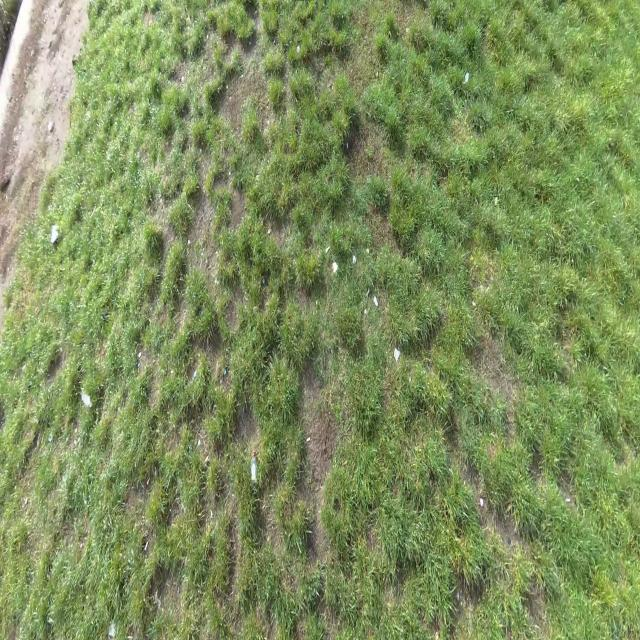rubbish: (248, 451, 258, 482), (80, 387, 93, 410), (51, 225, 62, 245)
